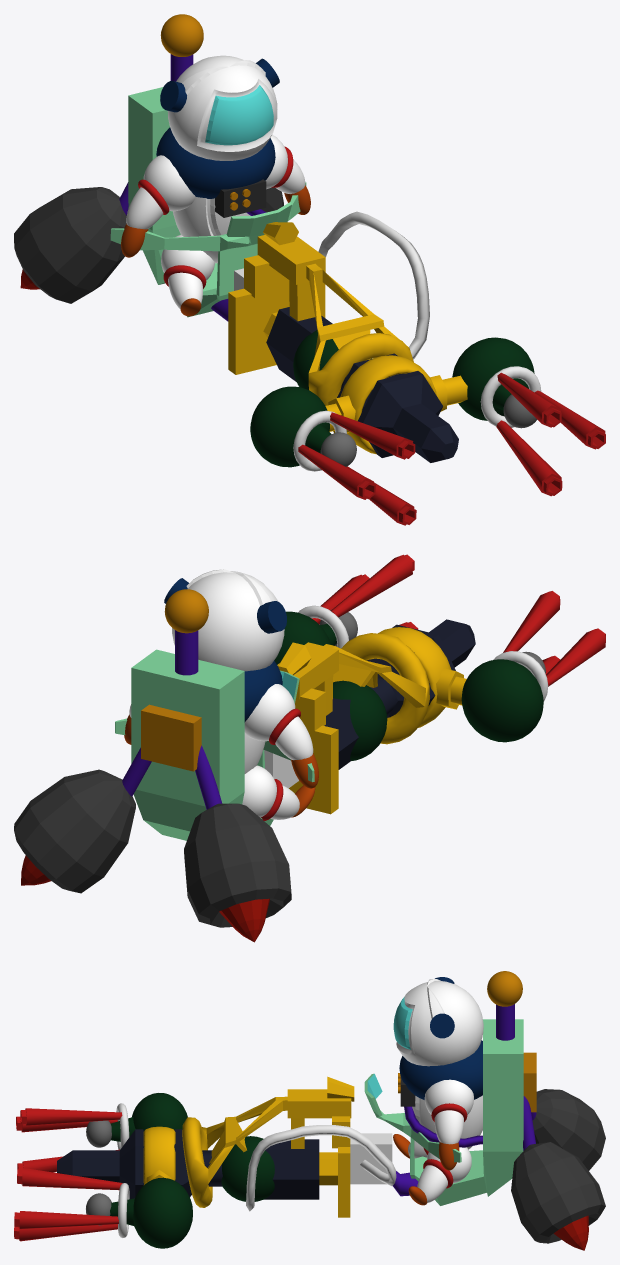
File: Character3.FBX
3 views of the same model, one above another, from view 1: azimuth 30°, elevation 25°; view 2: azimuth 150°, elevation 25°; view 3: azimuth 270°, elevation 25° (orthographic). The views are drawn at different scales.
Visible parts, largest first — view 1: RightThruster, GunBeamSupport, Head, Pack, Cylinder001, GunSupport, Lazers001, Lazers, LazerMount, Neck, LazerMount001, GunPowerCable (+16 smaller); view 2: Pack, RightThruster, RightThruster001, GunBeamSupport, Head, LazerMount, PackAttach, GunSupport, Lazers, Sphere001, Cylinder001, Lazers001 (+17 smaller); view 3: Pack, RightThruster001, GunBeamSupport, Head, Cylinder001, RightThruster, Lazers001, LazerMount001, GunBase, GunPowerCable, Neck, Lazers (+21 smaller).
Boxes of the visible parts, x1=… form: RightThruster: x1=14, y1=182, x2=128, y2=303; GunBeamSupport: x1=257, y1=222, x2=413, y2=405; Head: x1=167, y1=55, x2=277, y2=160; Pack: x1=110, y1=87, x2=306, y2=317; Cylinder001: x1=337, y1=353, x2=458, y2=462; GunSupport: x1=228, y1=255, x2=325, y2=374; Lazers001: x1=496, y1=372, x2=605, y2=496; Lazers: x1=298, y1=412, x2=416, y2=525; LazerMount: x1=250, y1=386, x2=329, y2=467; Neck: x1=156, y1=127, x2=275, y2=198; LazerMount001: x1=452, y1=337, x2=534, y2=420; GunPowerCable: x1=318, y1=211, x2=429, y2=359; Pack: x1=115, y1=649, x2=314, y2=840; RightThruster: x1=184, y1=745, x2=291, y2=942; RightThruster001: x1=14, y1=747, x2=151, y2=893; GunBeamSupport: x1=277, y1=633, x2=429, y2=744; Head: x1=172, y1=569, x2=284, y2=671; LazerMount: x1=461, y1=659, x2=543, y2=742; PackAttach: x1=141, y1=704, x2=201, y2=771; GunSupport: x1=289, y1=688, x2=338, y2=814; Lazers: x1=503, y1=591, x2=605, y2=686; Sphere001: x1=333, y1=680, x2=387, y2=760; Cylinder001: x1=367, y1=619, x2=475, y2=717; Lazers001: x1=312, y1=554, x2=418, y2=629; Pack: x1=364, y1=1019, x2=523, y2=1205; RightThruster001: x1=511, y1=1096, x2=605, y2=1250; GunBeamSupport: x1=182, y1=1076, x2=354, y2=1207; Head: x1=393, y1=979, x2=483, y2=1066; Cylinder001: x1=57, y1=1129, x2=222, y2=1199; RightThruster: x1=531, y1=1089, x2=605, y2=1170; Lazers001: x1=14, y1=1168, x2=122, y2=1241; LazerMount001: x1=133, y1=1177, x2=192, y2=1248; GunBase: x1=264, y1=1139, x2=319, y2=1199; GunPowerCable: x1=246, y1=1125, x2=396, y2=1211; Neck: x1=399, y1=1040, x2=482, y2=1099; Lazers: x1=16, y1=1108, x2=122, y2=1172.
Bounding box in the file's own units: 42.76 × 42.05 × 95.06.
